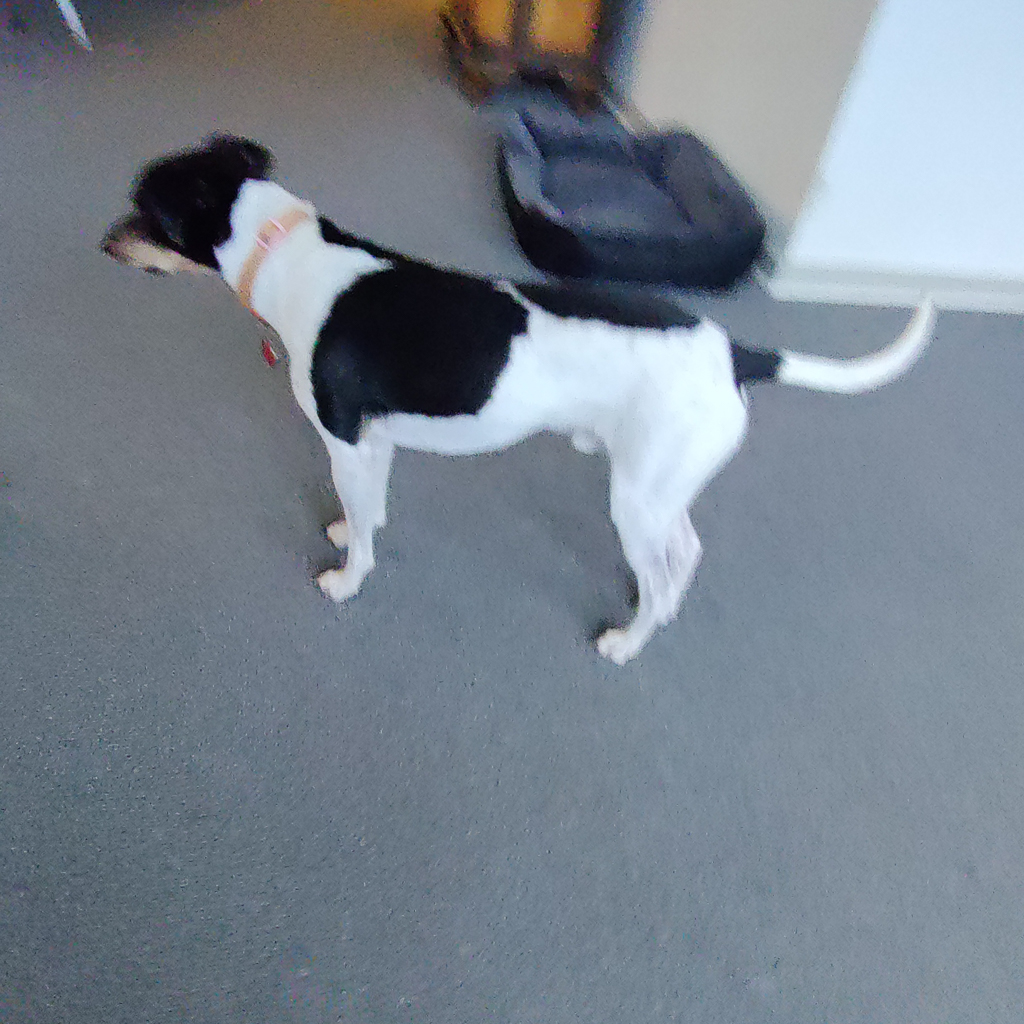Dog: (65, 119, 966, 679)
